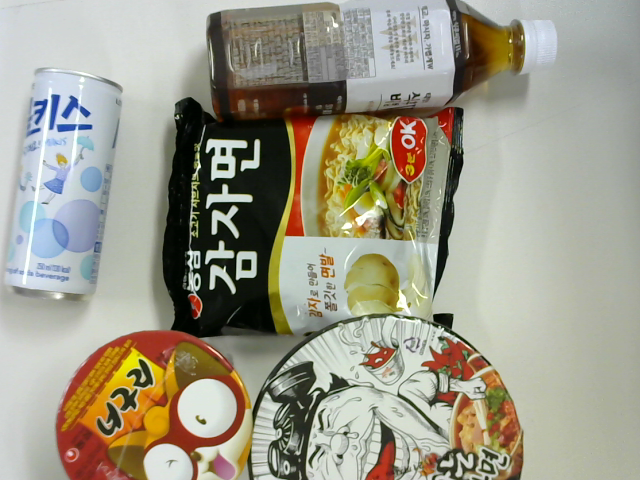HeJangsock: (247, 314, 524, 480)
Milkies_250ml: (7, 72, 121, 296)
Post-meal_recipe_W_tea_500ml: (201, 8, 571, 110)
Potato: (165, 102, 459, 336)
Raccoon: (57, 332, 252, 480)
